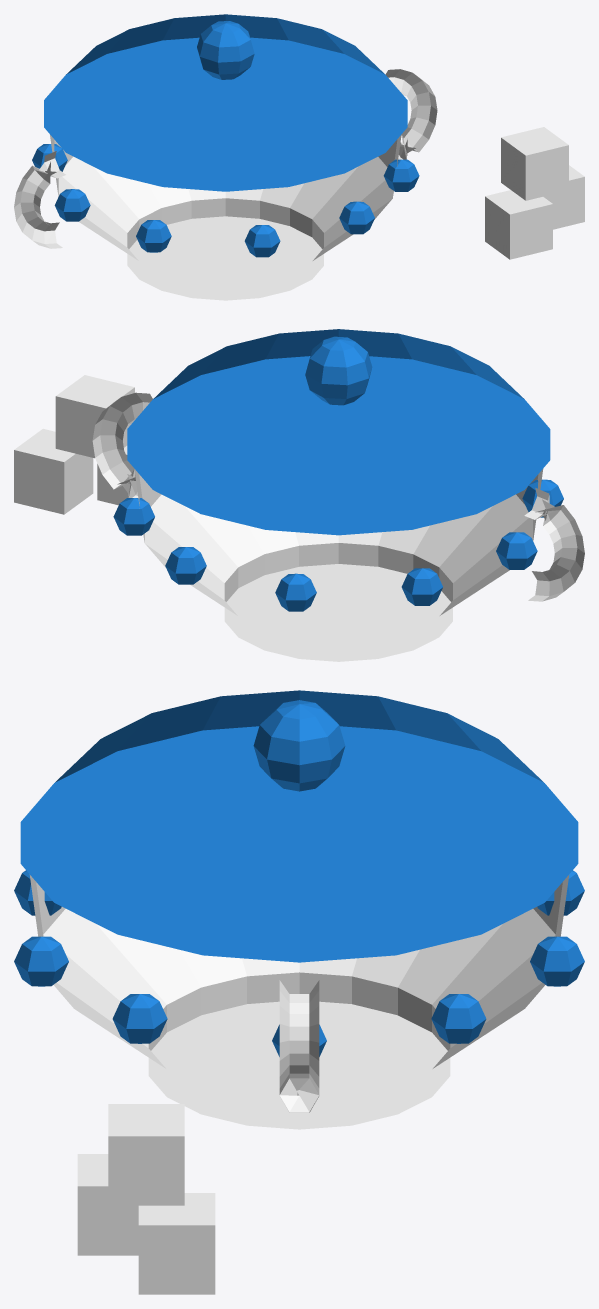
The model's file is sockerskal.glb.
3 views of the same model, one above another, from view 1: azimuth 30°, elevation 25°; view 2: azimuth 150°, elevation 25°; view 3: azimuth 270°, elevation 25° (orthographic). The views are drawn at different scales.
Parts seen in each view (by area): view 1: sockerskal; view 2: sockerskal; view 3: sockerskal.
Boxes of the visible parts, left/top/right/bottom form: sockerskal: left=14, top=14, right=584, bottom=300; sockerskal: left=14, top=329, right=584, bottom=661; sockerskal: left=14, top=690, right=584, bottom=1294.
Size of the model in its own units: 0.5963 by 0.26 by 0.373.
